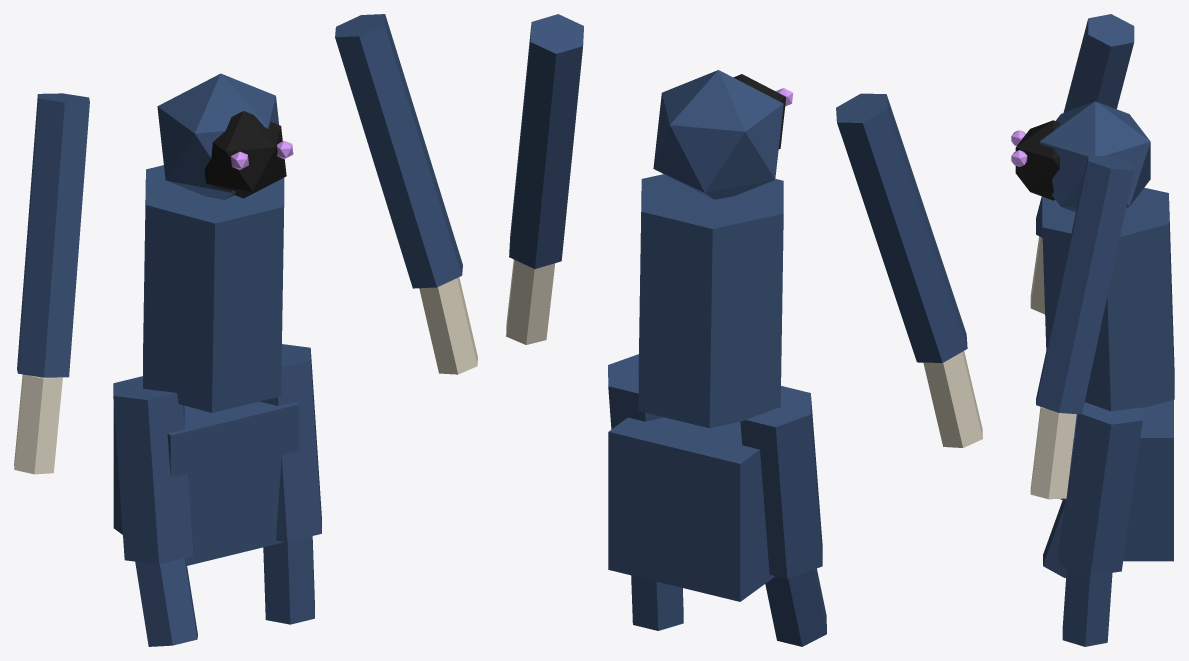
Rendered from npcpose_wraith_walk_00.glb.
3 renders of one model, left to right at view 1: azimuth 30°, elevation 25°; view 2: azimuth 150°, elevation 25°; view 3: azimuth 270°, elevation 25°, orthographic. The views are drawn at different scales.
Parts seen in each view (by area): view 1: npcpose; view 2: npcpose; view 3: npcpose.
Boxes of the visible parts, left/top/right/bottom form: npcpose: left=14, top=14, right=477, bottom=646; npcpose: left=506, top=14, right=982, bottom=646; npcpose: left=1011, top=14, right=1174, bottom=646.
Bounding box in the file's own units: 0.9388 × 1.1 × 0.3123.
